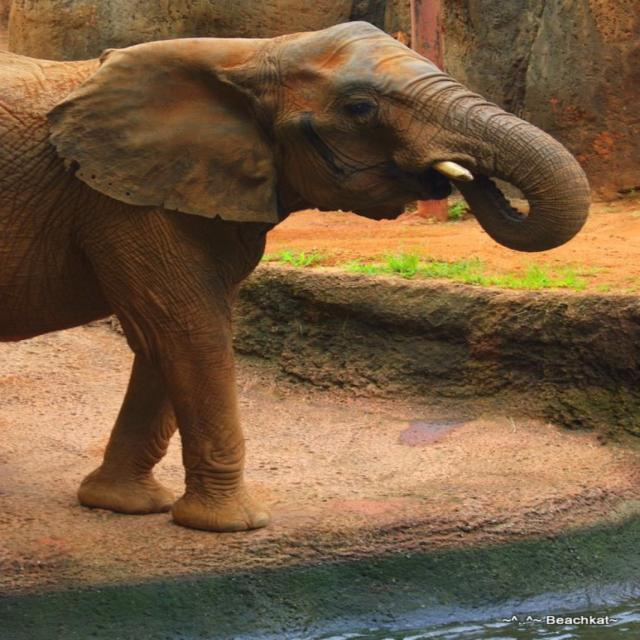Elephant: (0, 44, 549, 515)
